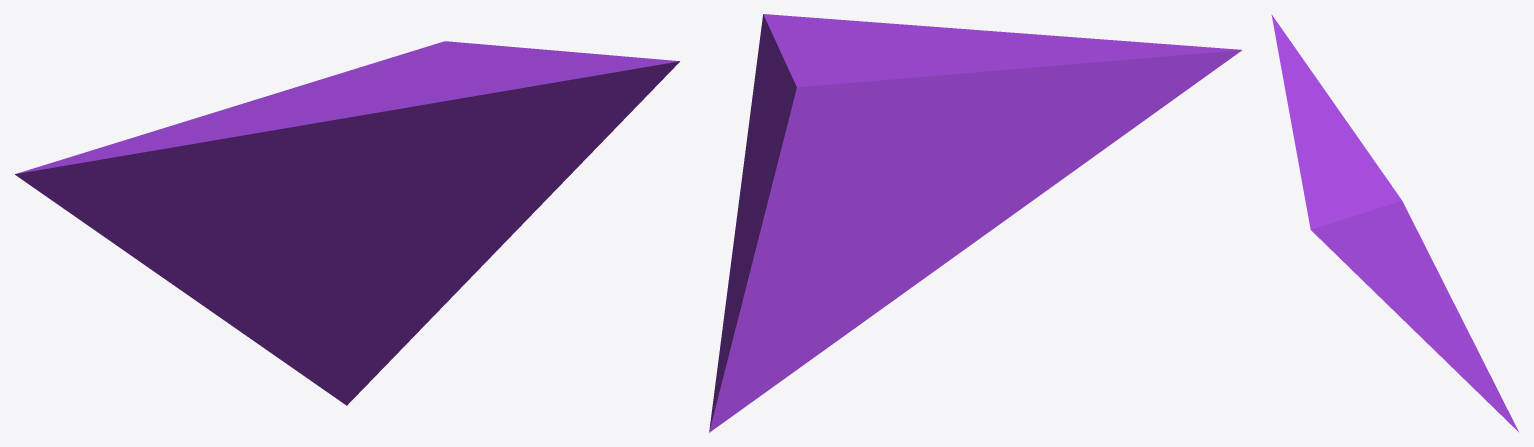
File: Window_100_0_chunks.fbx
3 renders of one model, left to right at view 1: azimuth 30°, elevation 25°; view 2: azimuth 150°, elevation 25°; view 3: azimuth 270°, elevation 25°, orthographic. The views are drawn at different scales.
Parts seen in each view (by area): view 1: Window_100_0_0; view 2: Window_100_0_0; view 3: Window_100_0_0.
Part boxes in pixels (x1=…): Window_100_0_0: x1=15, y1=41, x2=679, y2=405; Window_100_0_0: x1=709, y1=14, x2=1242, y2=432; Window_100_0_0: x1=1271, y1=15, x2=1518, y2=431.
Size of the model in its own units: 182 by 137 by 111.
